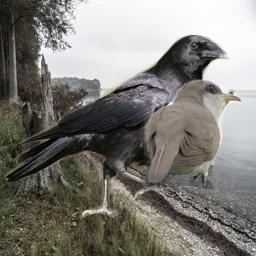Crow: (5, 33, 235, 221)
Cuckoo: (140, 79, 241, 190)
